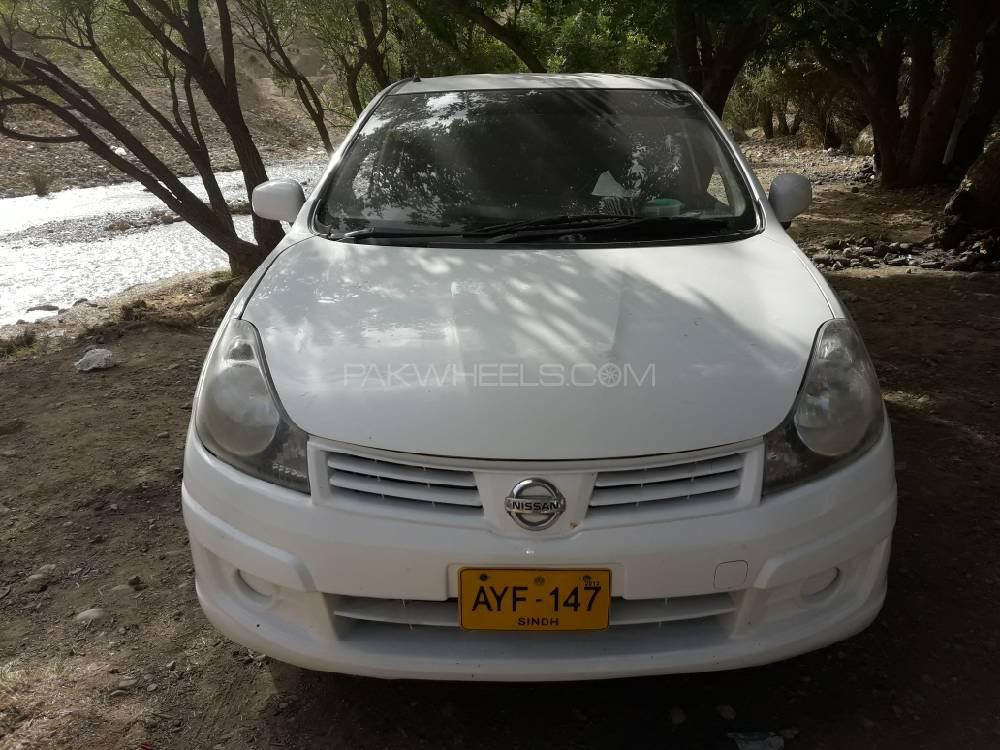license plate: (461, 570, 610, 631)
